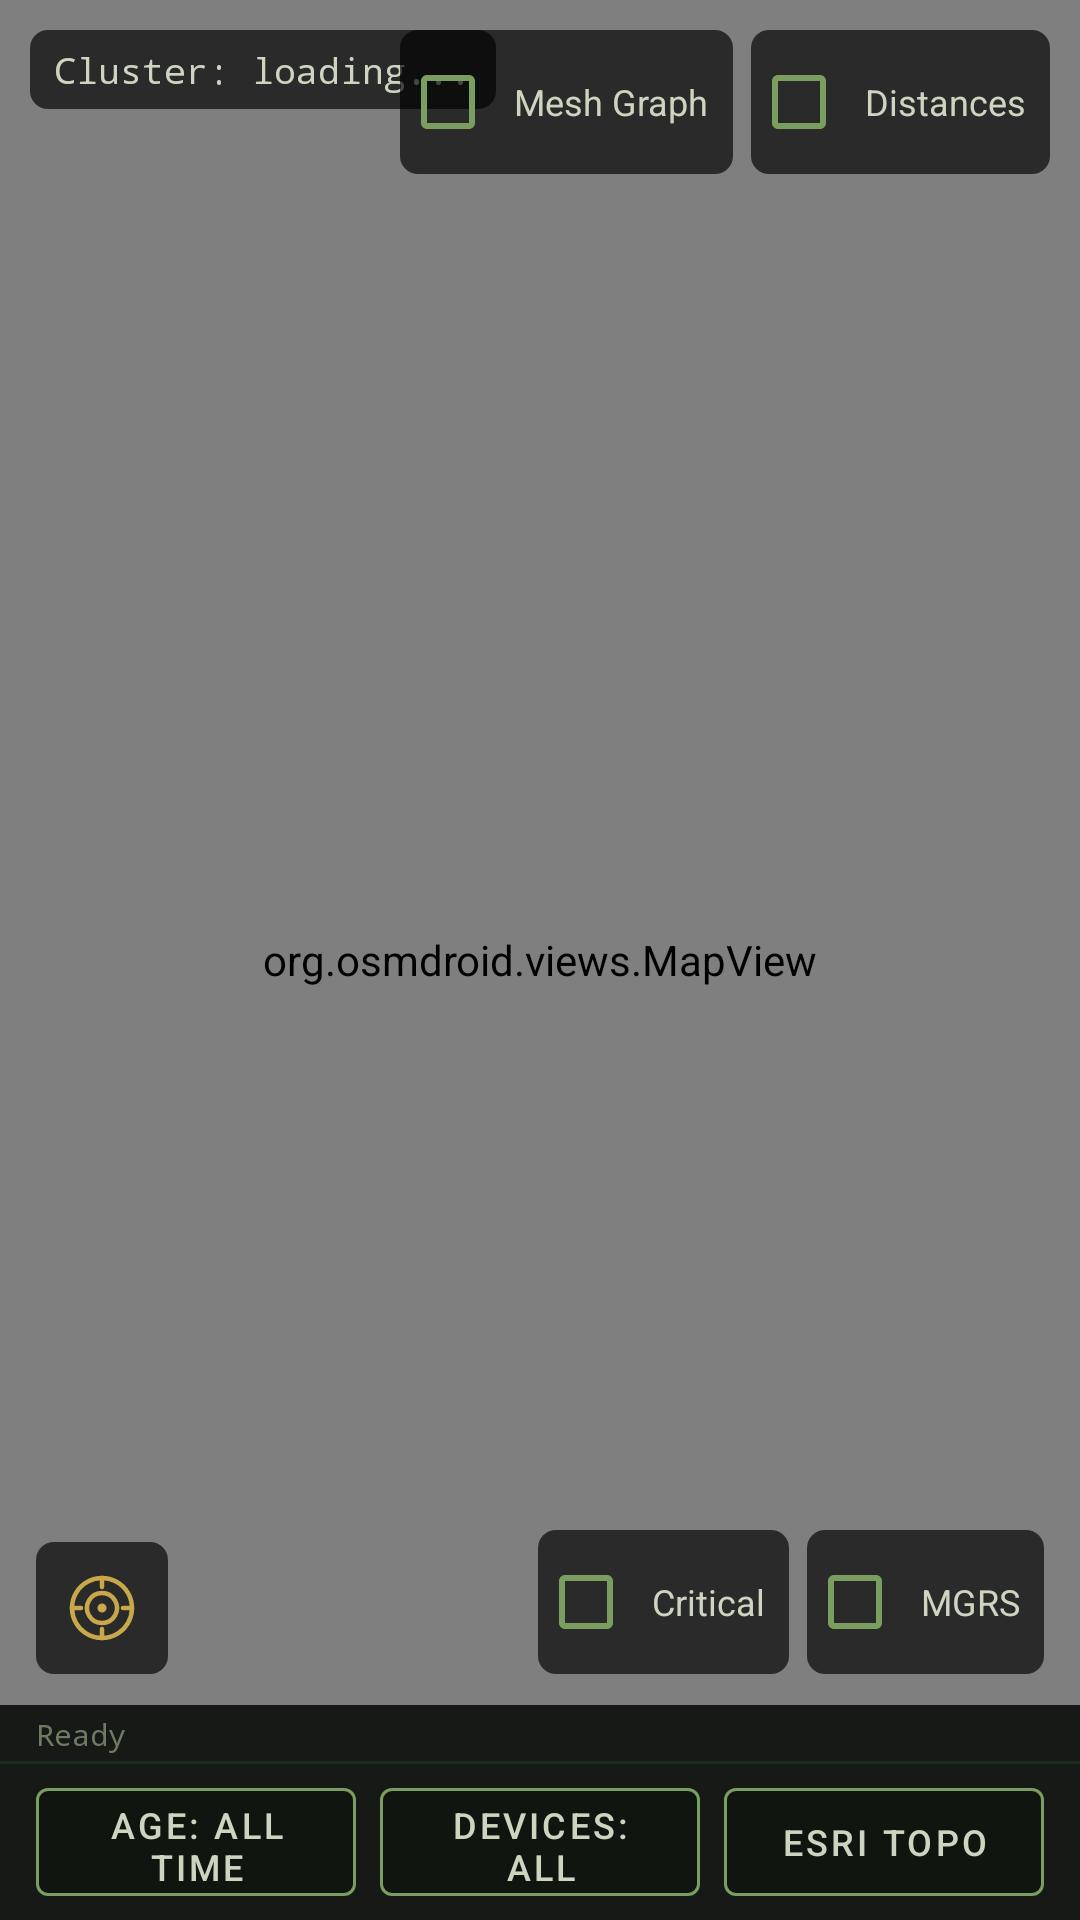

Icon click points for this 1080w x 1920h phone screenshot, format [x,y]:
Re-center map on self: [102,1608]
